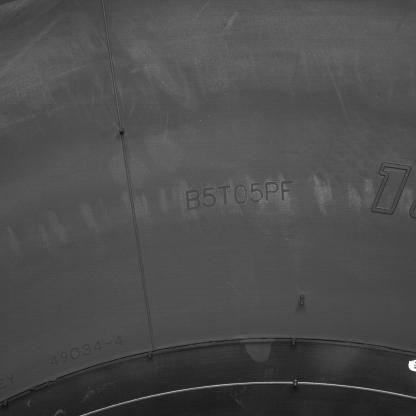ocr: (184, 178, 296, 213)
